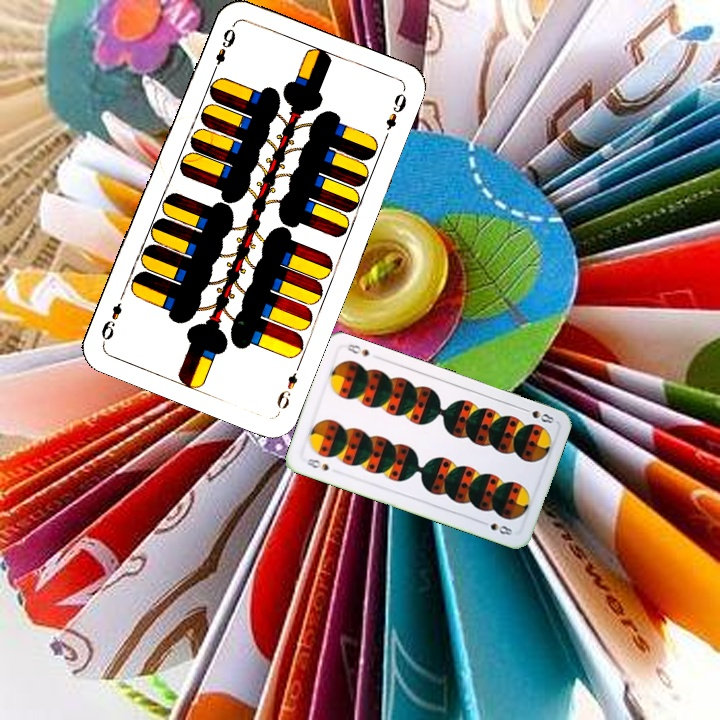E9: (272, 359, 304, 415), (208, 20, 239, 77)
S8: (517, 404, 557, 426), (299, 454, 331, 474)
